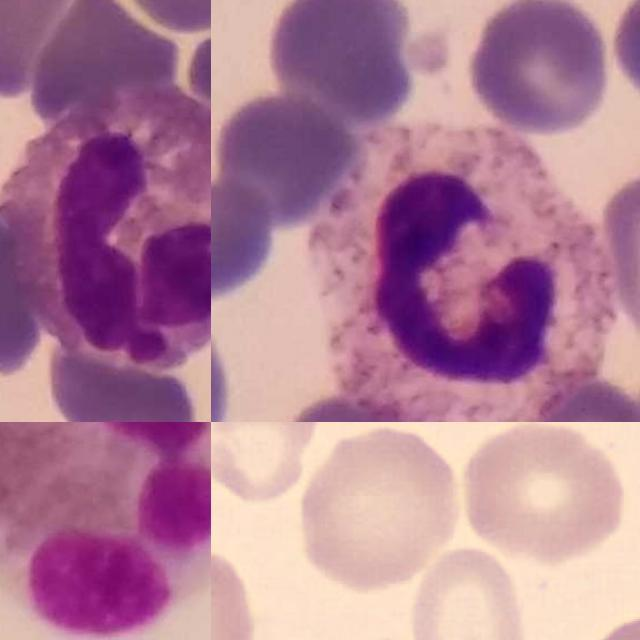Eosinophil: (0, 83, 211, 373), (0, 422, 211, 634)
Neutrophil: (312, 123, 614, 422)
RBC: (291, 422, 469, 594), (453, 422, 632, 566), (406, 542, 527, 640), (211, 422, 328, 506)
